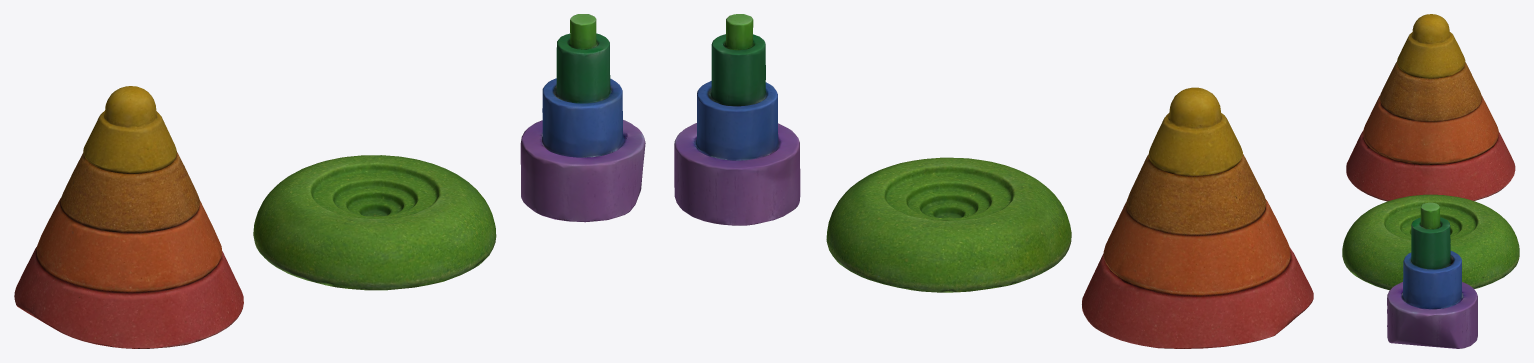
The model's file is CONE_SORTING_kg5fbARBwts.glb.
3 views of the same model, side by side, from view 1: azimuth 30°, elevation 25°; view 2: azimuth 150°, elevation 25°; view 3: azimuth 270°, elevation 25° (orthographic). The views are drawn at different scales.
Visible parts, largest first — view 1: CONE_SORTING_kg5fbARBwts; view 2: CONE_SORTING_kg5fbARBwts; view 3: CONE_SORTING_kg5fbARBwts.
Part boxes in pixels (<box>): CONE_SORTING_kg5fbARBwts: <box>14,14,645,348</box>; CONE_SORTING_kg5fbARBwts: <box>674,14,1313,348</box>; CONE_SORTING_kg5fbARBwts: <box>1342,14,1519,348</box>.
Size of the model in its own units: 0.3909 by 0.1346 by 0.1355.
Materials: 1 (1 with a texture image).
